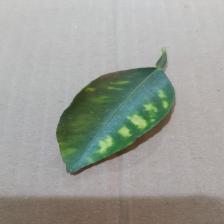greening: (82, 77, 171, 156)
